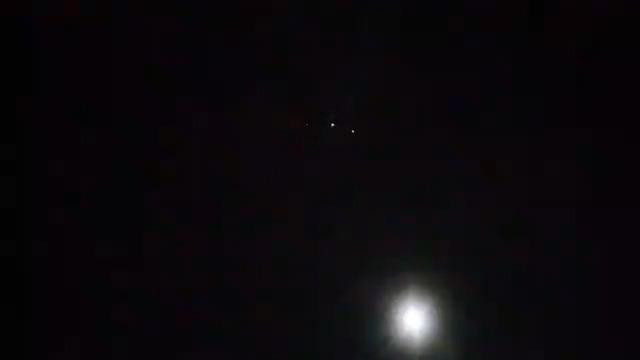Plane: (301, 118, 362, 141)
